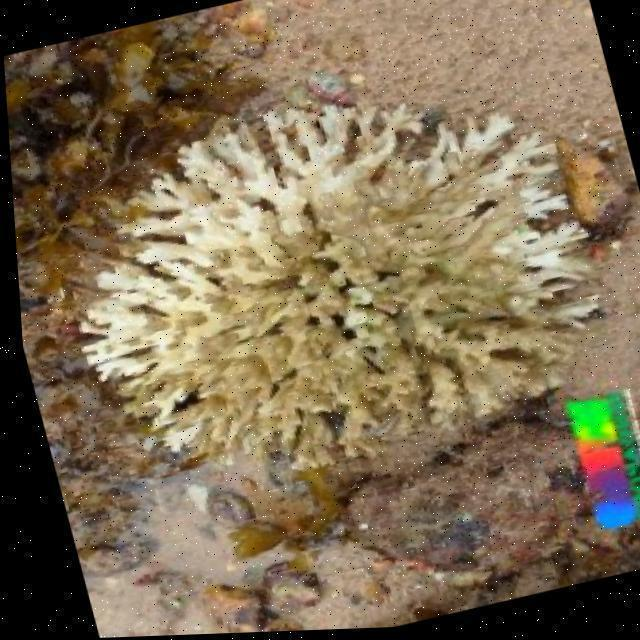Bleached Coral: (84, 112, 582, 437)
